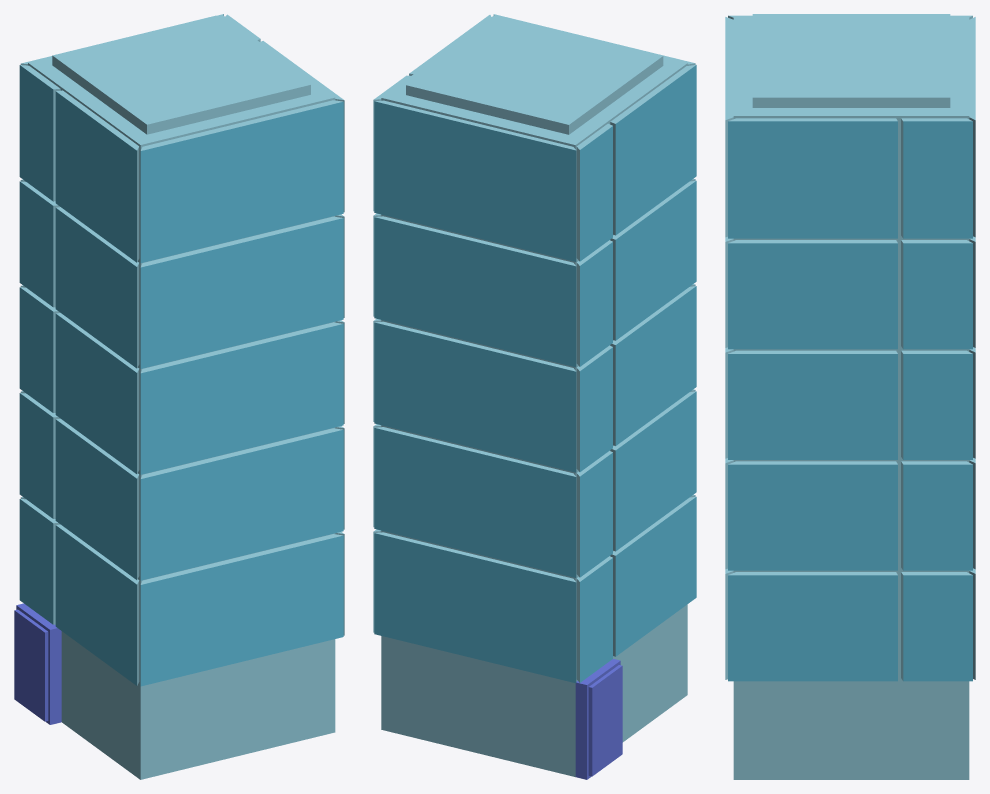
The model's file is skyscraper3.fbx.
3 views of the same model, side by side, from view 1: azimuth 30°, elevation 25°; view 2: azimuth 150°, elevation 25°; view 3: azimuth 270°, elevation 25° (orthographic). The views are drawn at different scales.
Visible parts, largest first — view 1: Skyscraper_2; view 2: Skyscraper_2; view 3: Skyscraper_2.
Boxes of the visible parts, left/top/right/bottom form: Skyscraper_2: left=14, top=14, right=344, bottom=779; Skyscraper_2: left=373, top=14, right=696, bottom=779; Skyscraper_2: left=725, top=14, right=975, bottom=779.
Size of the model in its own units: 222 by 632 by 213.
